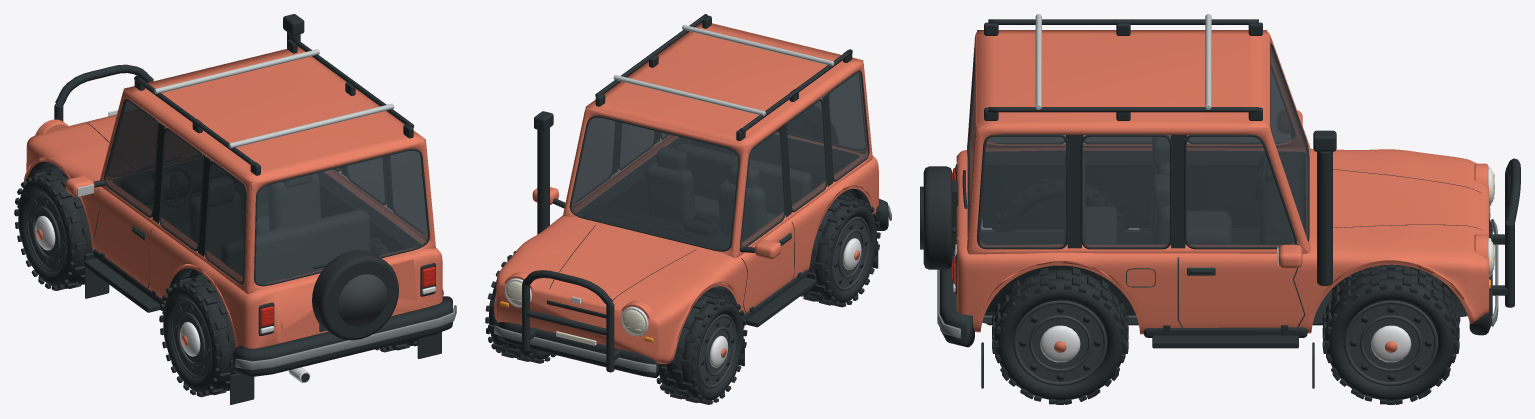
Rendered from cob.fbx.
The picture shows the model from 3 angles, left to right: view 1: azimuth 30°, elevation 25°; view 2: azimuth 150°, elevation 25°; view 3: azimuth 270°, elevation 25°; orthographic projection. The views are drawn at different scales.
Visible parts, largest first — view 1: Body, Wheel_RL_Mesh, Wheel_FL_Mesh, Wheel_RR_Mesh; view 2: Body, Wheel_FL_Mesh, Wheel_RL_Mesh, Wheel_FR_Mesh; view 3: Body, Wheel_FR_Mesh, Wheel_RR_Mesh, Wheel_RL_Mesh.
Part boxes in pixels (bbox=[...]): Body: bbox=[24, 14, 456, 404]; Wheel_RL_Mesh: bbox=[159, 274, 236, 397]; Wheel_FL_Mesh: bbox=[14, 168, 94, 290]; Wheel_RR_Mesh: bbox=[369, 237, 443, 352]; Body: bbox=[494, 14, 891, 377]; Wheel_FL_Mesh: bbox=[656, 292, 747, 404]; Wheel_RL_Mesh: bbox=[800, 194, 880, 307]; Wheel_FR_Mesh: bbox=[485, 251, 555, 363]; Body: bbox=[920, 14, 1520, 388]; Wheel_FR_Mesh: bbox=[1322, 264, 1459, 404]; Wheel_RR_Mesh: bbox=[992, 267, 1128, 404]; Wheel_RL_Mesh: bbox=[992, 178, 1128, 232].
Bounding box in the file's own units: 241 × 219 × 418.
